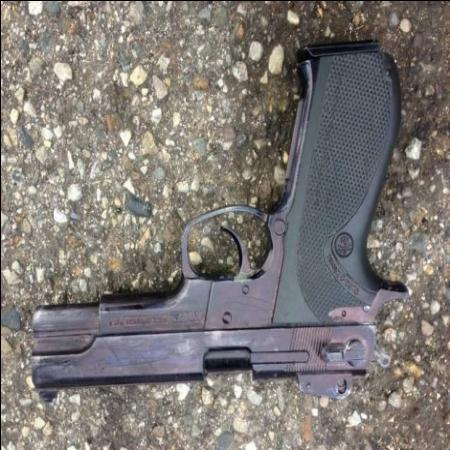Pistol: (28, 38, 414, 412)
